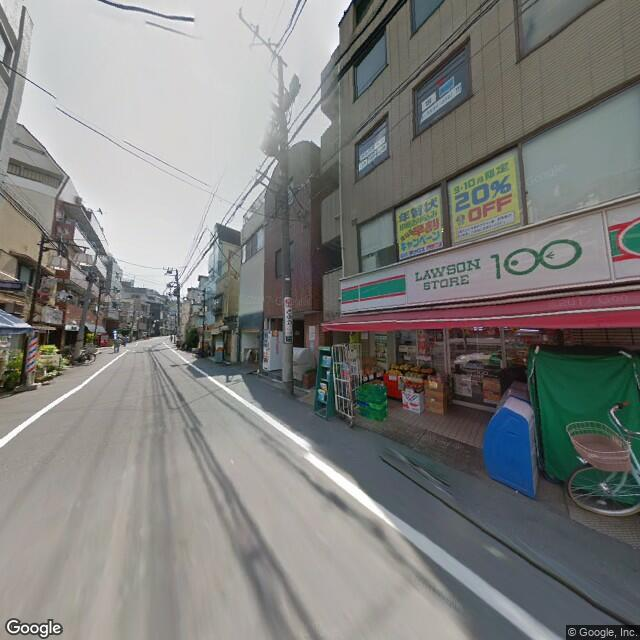lawson: (341, 195, 639, 314)
